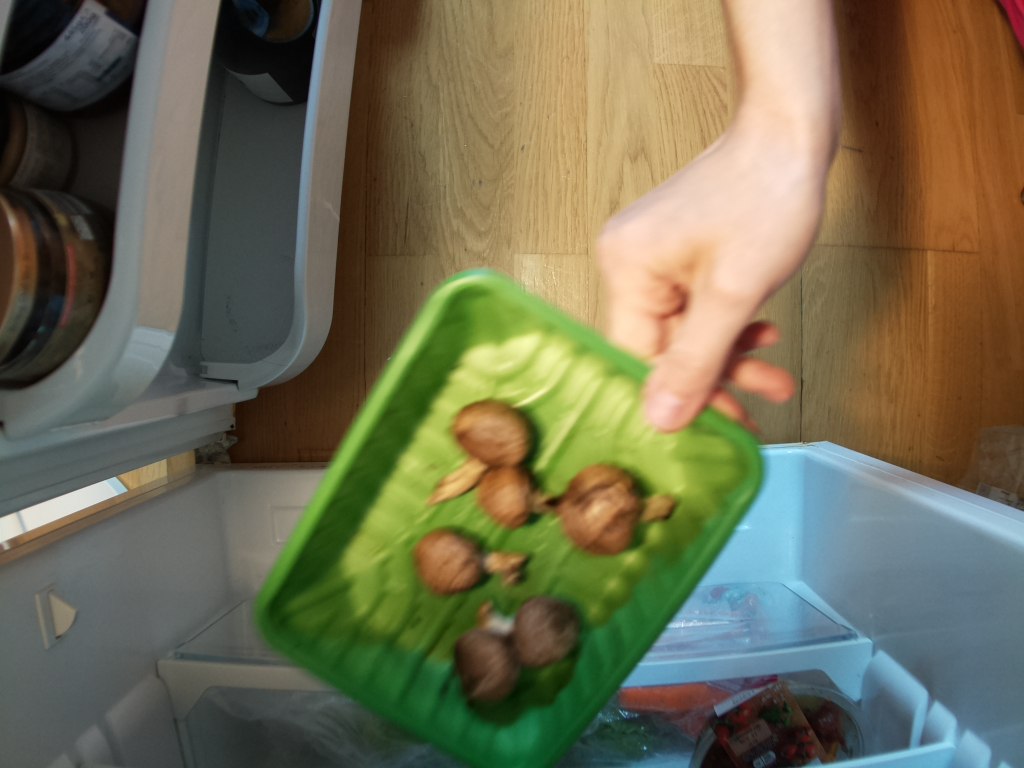mushrooms-bad: (248, 267, 764, 742)
